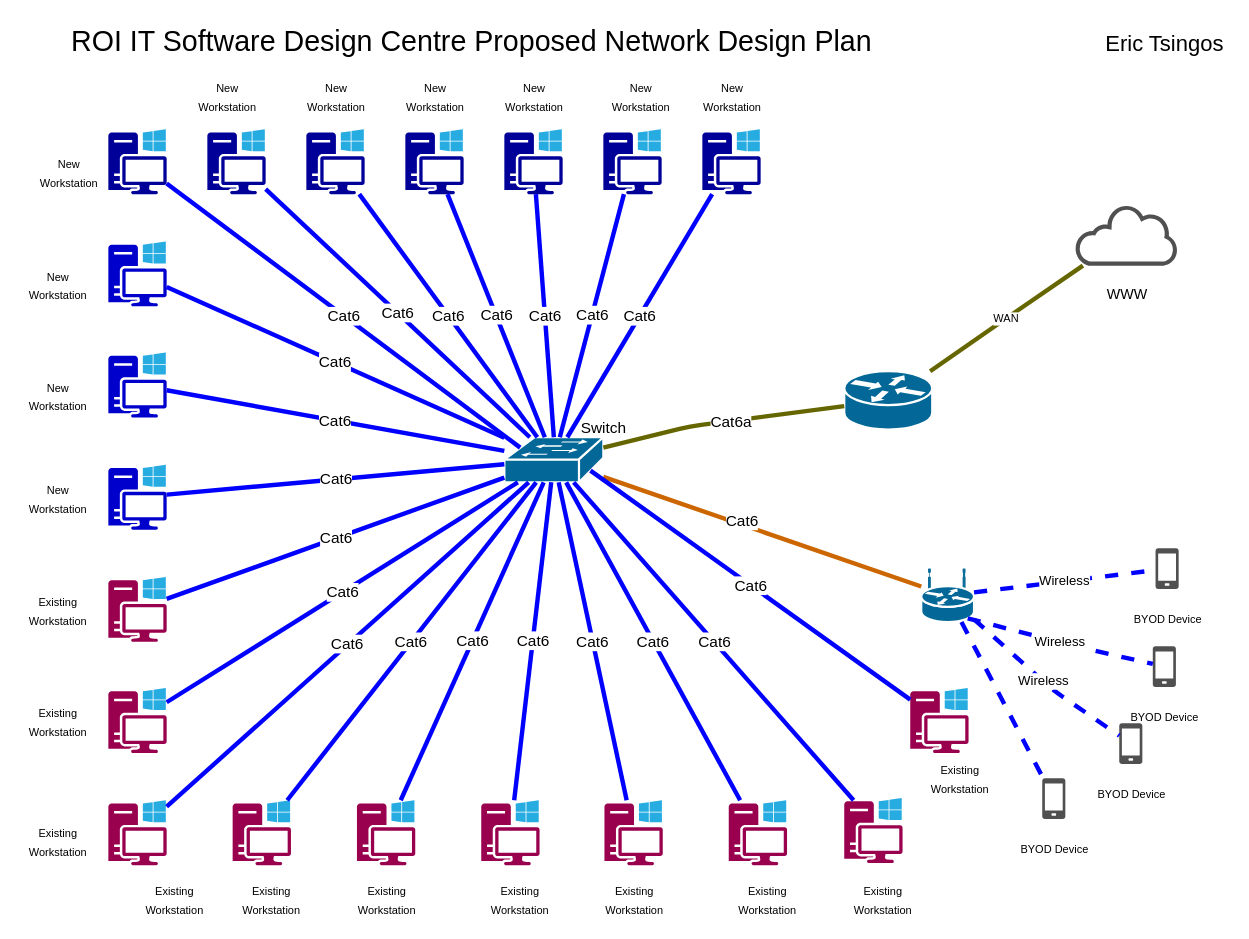
This 1249x939 diagram has some shape labels left out. Each missing label, with the box of its shape:
Router: (843, 370, 933, 430)
Wireless Access Point: (920, 568, 975, 623)
